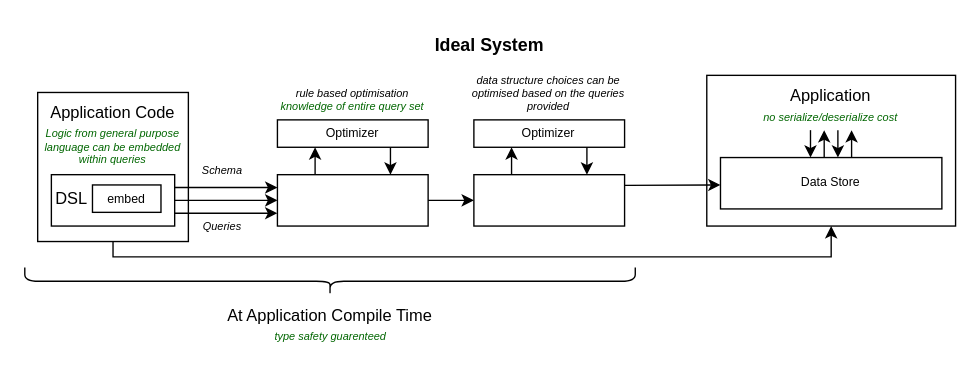
The diagram is 980 pixels wide and 373 high, and some of its shapes have lost their labels. The shapes that lost their labels are listed below. From the top down, each one's centre as x and y in pixels, then its label:
At (352,199): "Logical Plan".
At (549,199): "Code Generation".
